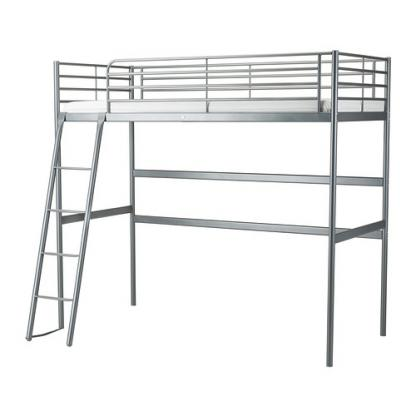Bed: (21, 47, 393, 371)
